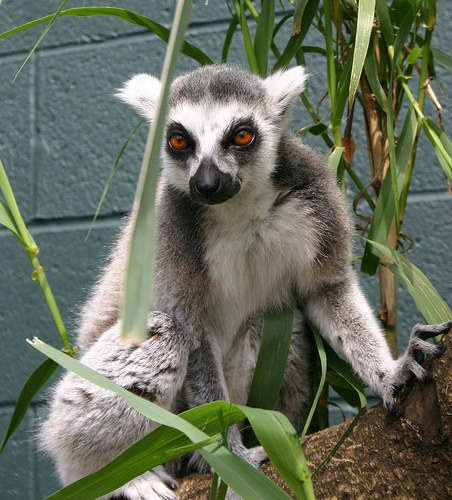cat: (37, 63, 450, 498)
